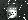person: (8, 4, 18, 18)
